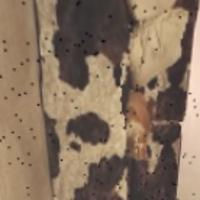asleep: (126, 89, 156, 160)
